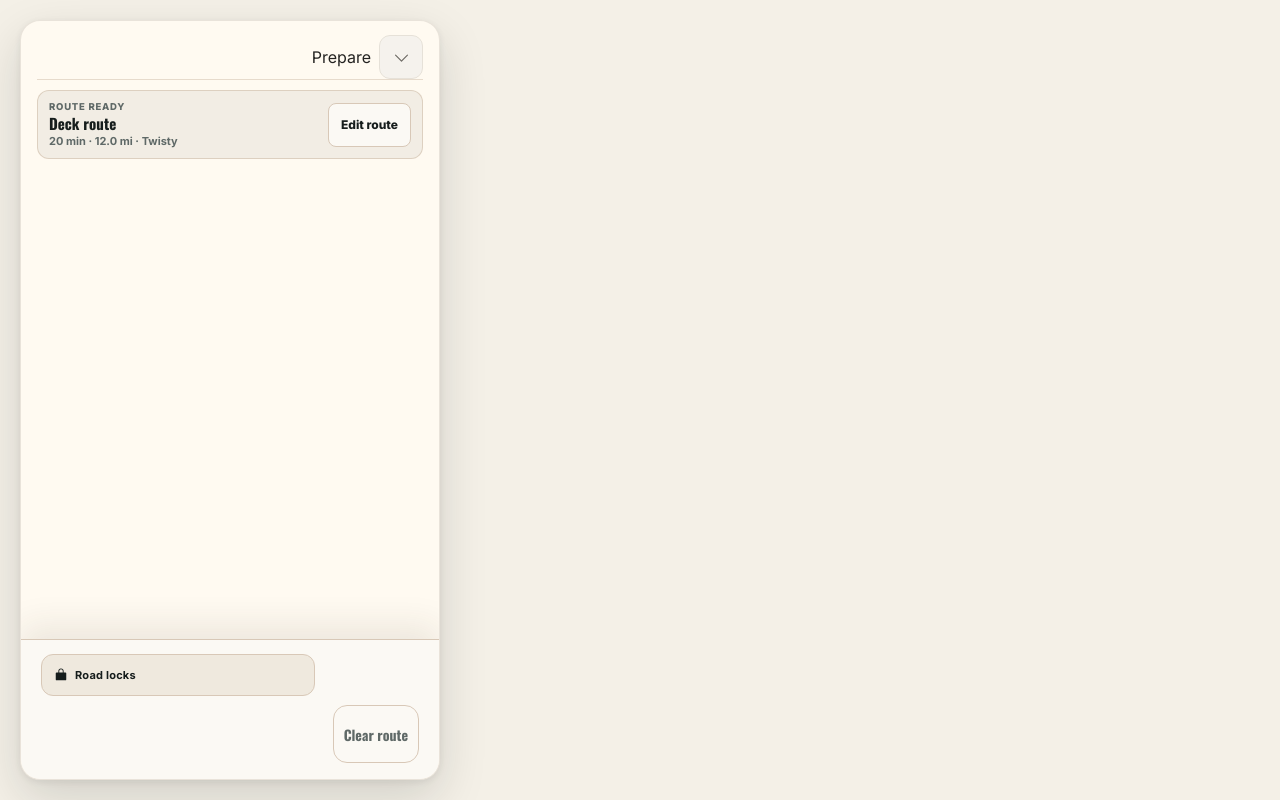
Test case: planner ride composer › opens the road locks drawer when the dock entry is tapped
The width and height of the screenshot is (1280, 800).
Click the button with aria-label "Open road locks" at (105,675), box [41,654,315,696]
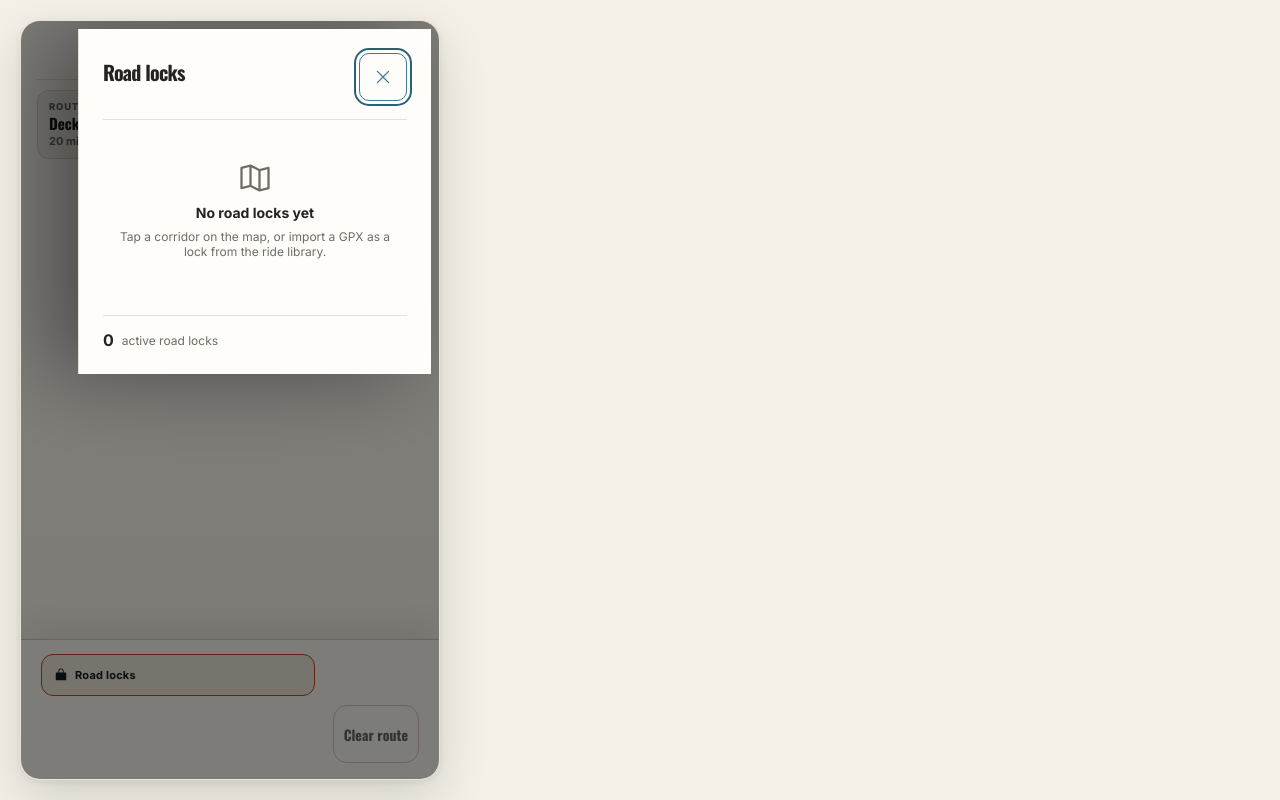
Expected: the dialog "Road locks" is shown, [78,29,431,374]
